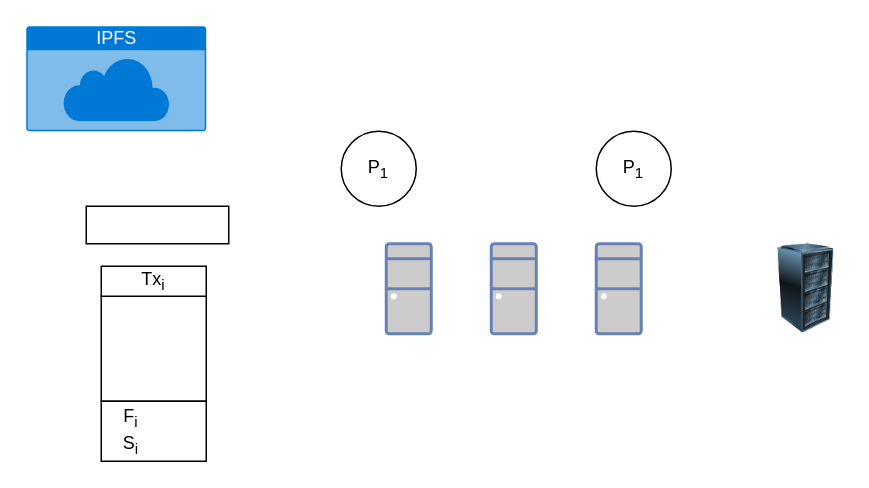
This 869x488 diagram has some shape labels left out. Here are the shapes that lost their labels. From the top down, the centre of each, then its label:
At pixel 157 224: "(3) Enc( PK c ,m)".
At pixel 153 348: "TxID a i H(V i,j ) V i".
